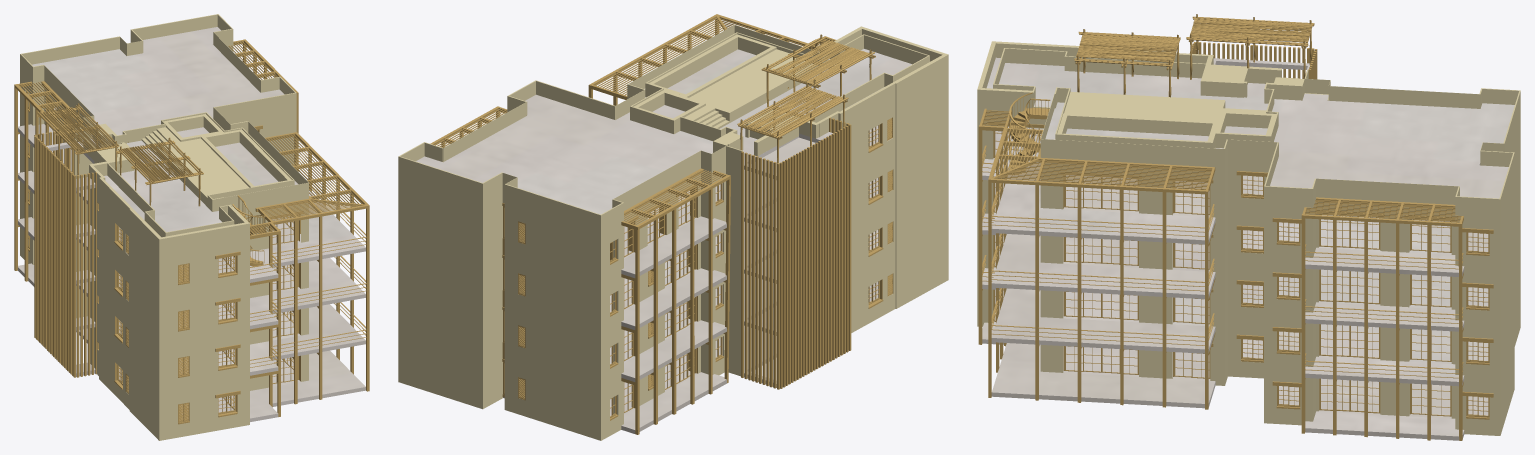
The model's file is Residencial01.glb.
3 views of the same model, side by side, from view 1: azimuth 30°, elevation 25°; view 2: azimuth 150°, elevation 25°; view 3: azimuth 270°, elevation 25° (orthographic). The views are drawn at different scales.
Visible parts, largest first — view 1: R01W_Walls, R01W_Floorplates, R01W_Wood, R01W_Frames, R01W_Walls02; view 2: R01W_Walls, R01W_Wood, R01W_Floorplates, R01W_Frames, R01W_Walls02; view 3: R01W_Floorplates, R01W_Walls, R01W_Wood, R01W_Frames, R01W_Walls02.
Part boxes in pixels (box(x1,y1,x2,y2)): R01W_Walls: box(20, 14, 308, 440); R01W_Floorplates: box(18, 27, 365, 421); R01W_Wood: box(14, 39, 369, 422); R01W_Frames: box(26, 90, 298, 414); R01W_Walls02: box(28, 95, 303, 424); R01W_Walls: box(398, 25, 948, 440); R01W_Wood: box(430, 14, 892, 434); R01W_Floorplates: box(416, 49, 911, 433); R01W_Frames: box(503, 124, 879, 418); R01W_Walls02: box(502, 117, 893, 420); R01W_Floorplates: box(982, 57, 1514, 440); R01W_Walls: box(977, 41, 1520, 435); R01W_Wood: box(978, 14, 1463, 440); R01W_Frames: box(993, 127, 1489, 417); R01W_Walls02: box(988, 122, 1493, 419).
Bounding box in the file's own units: 24.52 × 18.66 × 34.31.
3 materials, 1 textured.
